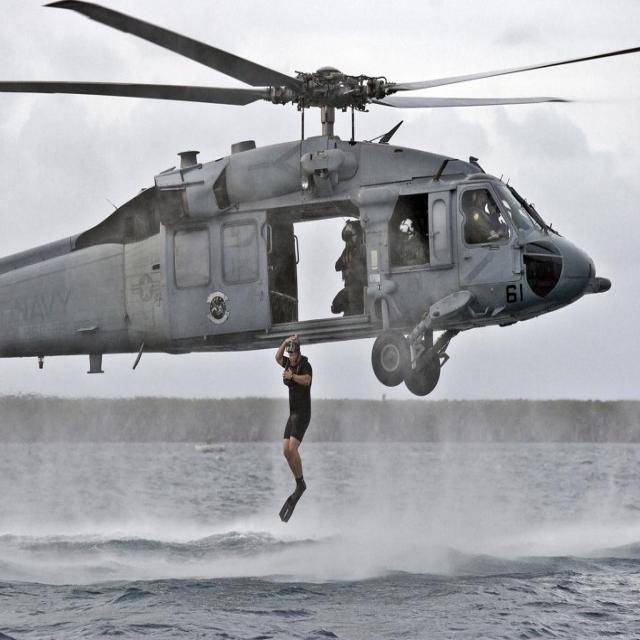nomask: (288, 353, 296, 367)
